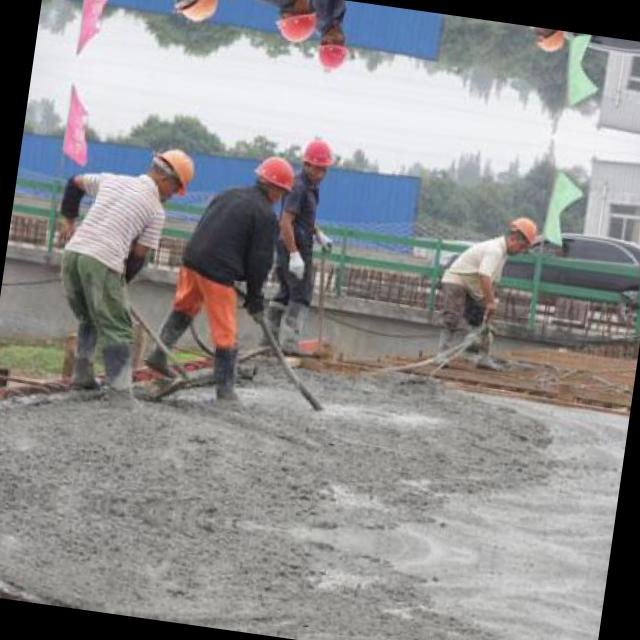helmet: (140, 140, 203, 203), (248, 148, 298, 204), (270, 0, 320, 49), (295, 132, 338, 186), (310, 24, 353, 76), (164, 0, 227, 31), (500, 212, 542, 254), (528, 27, 570, 58)
